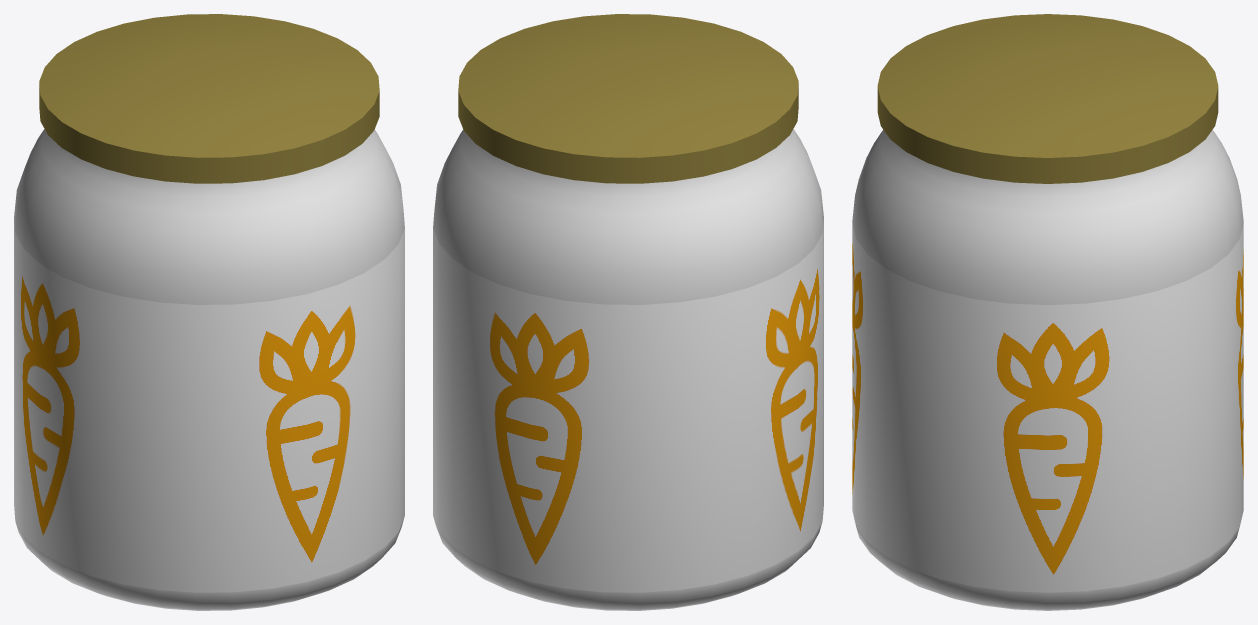
Rendered from Jar_carrot.fbx.
The picture shows the model from 3 angles, left to right: view 1: azimuth 30°, elevation 25°; view 2: azimuth 150°, elevation 25°; view 3: azimuth 270°, elevation 25°; orthographic projection.
Visible parts, largest first — view 1: Jar_carrot; view 2: Jar_carrot; view 3: Jar_carrot.
Part boxes in pixels (x1,y1,x2,y2): Jar_carrot: [14, 14, 404, 610]; Jar_carrot: [433, 14, 823, 610]; Jar_carrot: [852, 14, 1243, 610].
Size of the model in its own units: 26.9 by 26.9 by 35.8.
